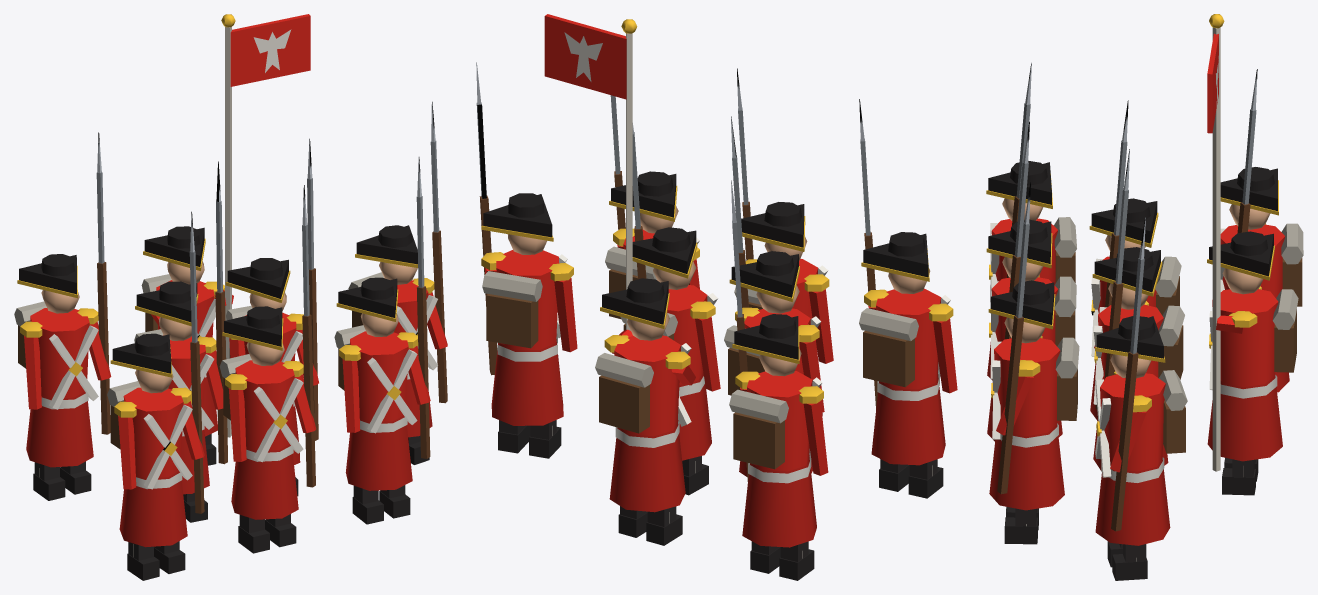
The model's file is squad_dl4_red.glb.
The picture shows the model from 3 angles, left to right: view 1: azimuth 30°, elevation 25°; view 2: azimuth 150°, elevation 25°; view 3: azimuth 270°, elevation 25°; orthographic projection. The views are drawn at different scales.
Visible parts, largest first — view 1: squad_dl4_red; view 2: squad_dl4_red; view 3: squad_dl4_red.
Boxes of the visible parts, left/top/right/bottom form: squad_dl4_red: left=14, top=14, right=447, bottom=580; squad_dl4_red: left=476, top=14, right=957, bottom=580; squad_dl4_red: left=986, top=14, right=1303, bottom=580.
Size of the model in its own units: 0.681 by 0.7809 by 0.4621.
Materials: 1 (1 with a texture image).
